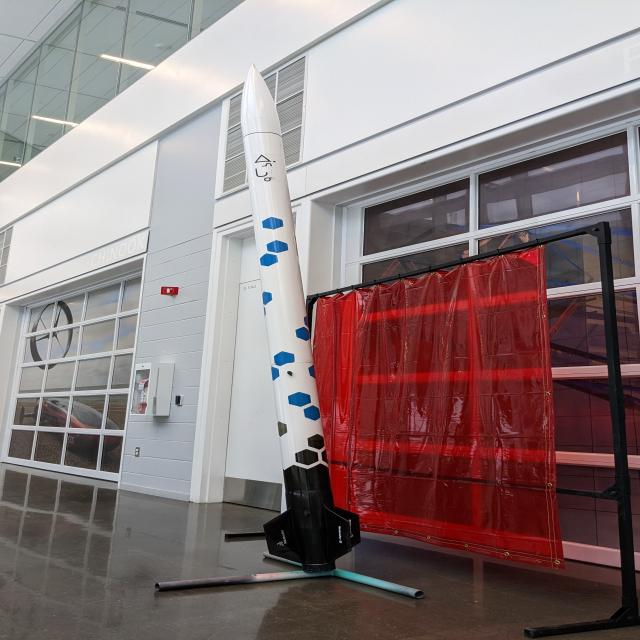Rocket: (240, 61, 361, 565)
